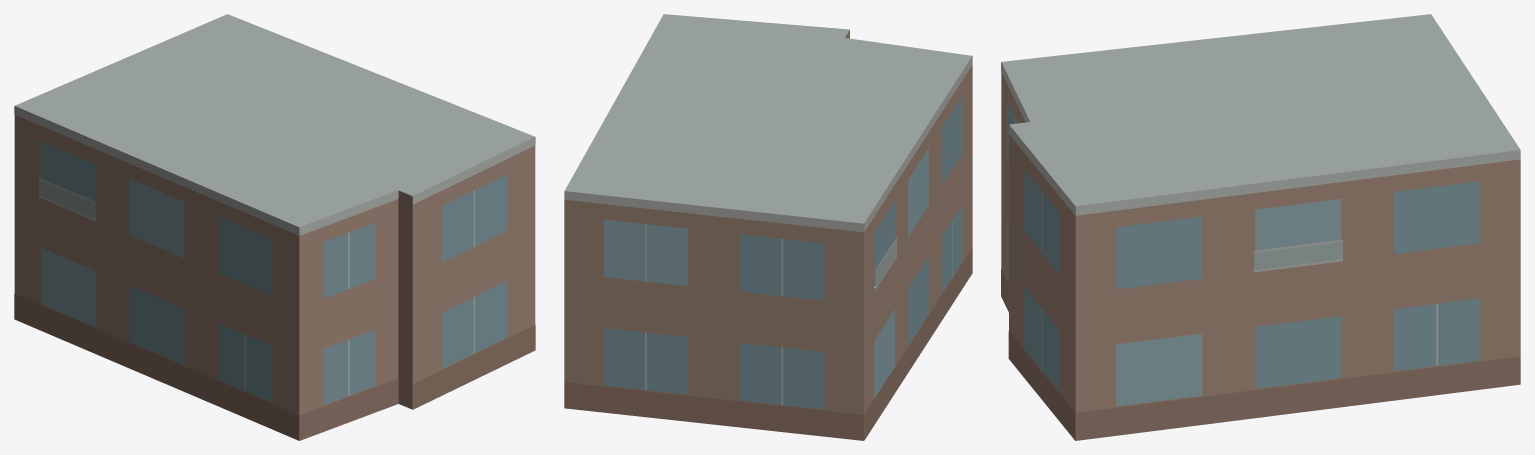
Rendered from survey-upis-32658703.glb.
3 views of the same model, side by side, from view 1: azimuth 30°, elevation 25°; view 2: azimuth 150°, elevation 25°; view 3: azimuth 270°, elevation 25° (orthographic). The views are drawn at different scales.
Parts seen in each view (by area): view 1: survey-upis-32658703.tmp; view 2: survey-upis-32658703.tmp; view 3: survey-upis-32658703.tmp.
Boxes of the visible parts, x1,y1,x2,y2 form: survey-upis-32658703.tmp: (14,14,535,440); survey-upis-32658703.tmp: (564,14,972,440); survey-upis-32658703.tmp: (1001,14,1520,440).
Size of the model in its own units: 10.74 by 6.1 by 12.26.
